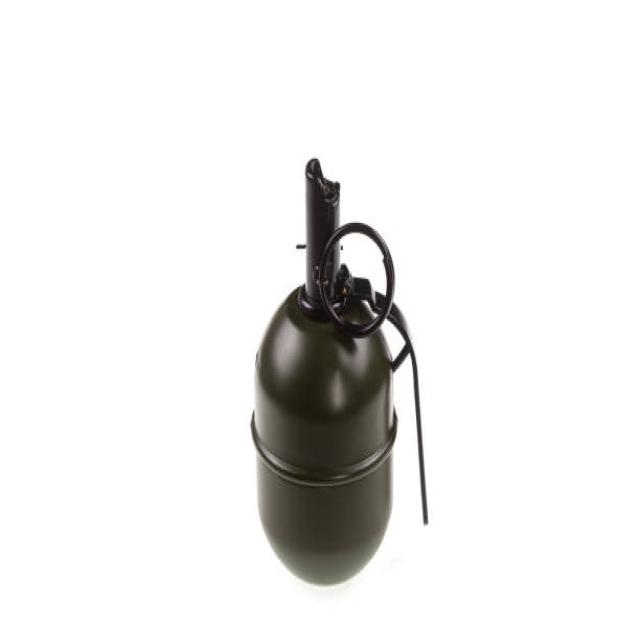grenade: (248, 151, 436, 594)
